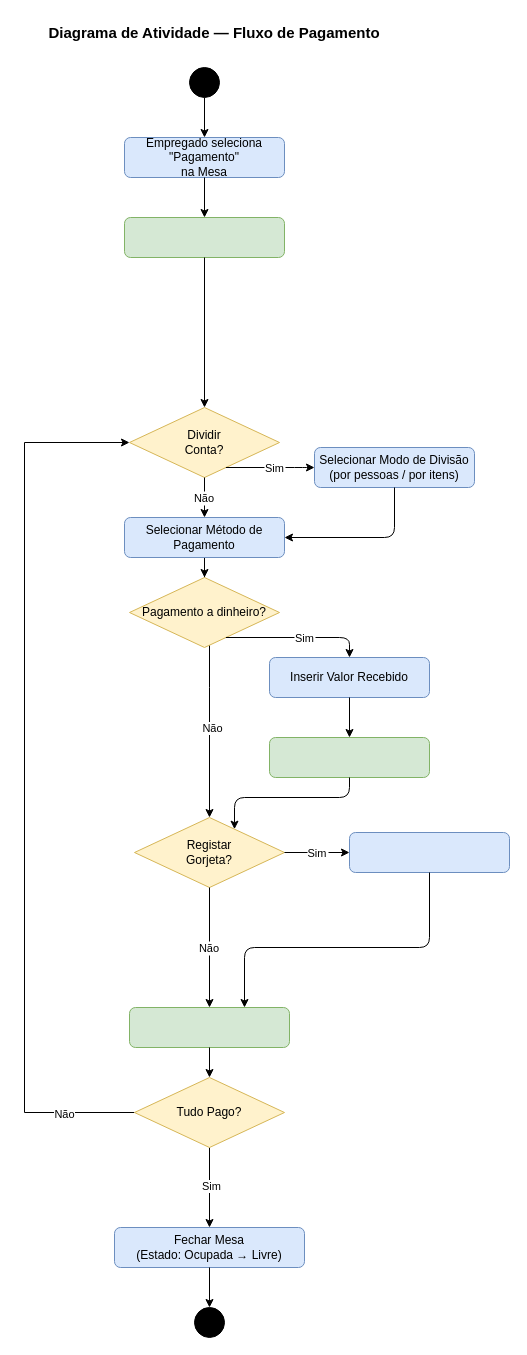
This 527x1355 diagram has some shape labels left out. The box of each missing label's shape, as (x1, y1, x2, y2) in pixels:
Inserir Valor de Gorjeta: (348, 832, 510, 872)
Sistema apresenta total da mesa (Descontos automaticos): (124, 216, 284, 258)
Sistema Calcula Troco: (268, 736, 430, 778)
Sistema Gera Recibo: (128, 1006, 290, 1048)
